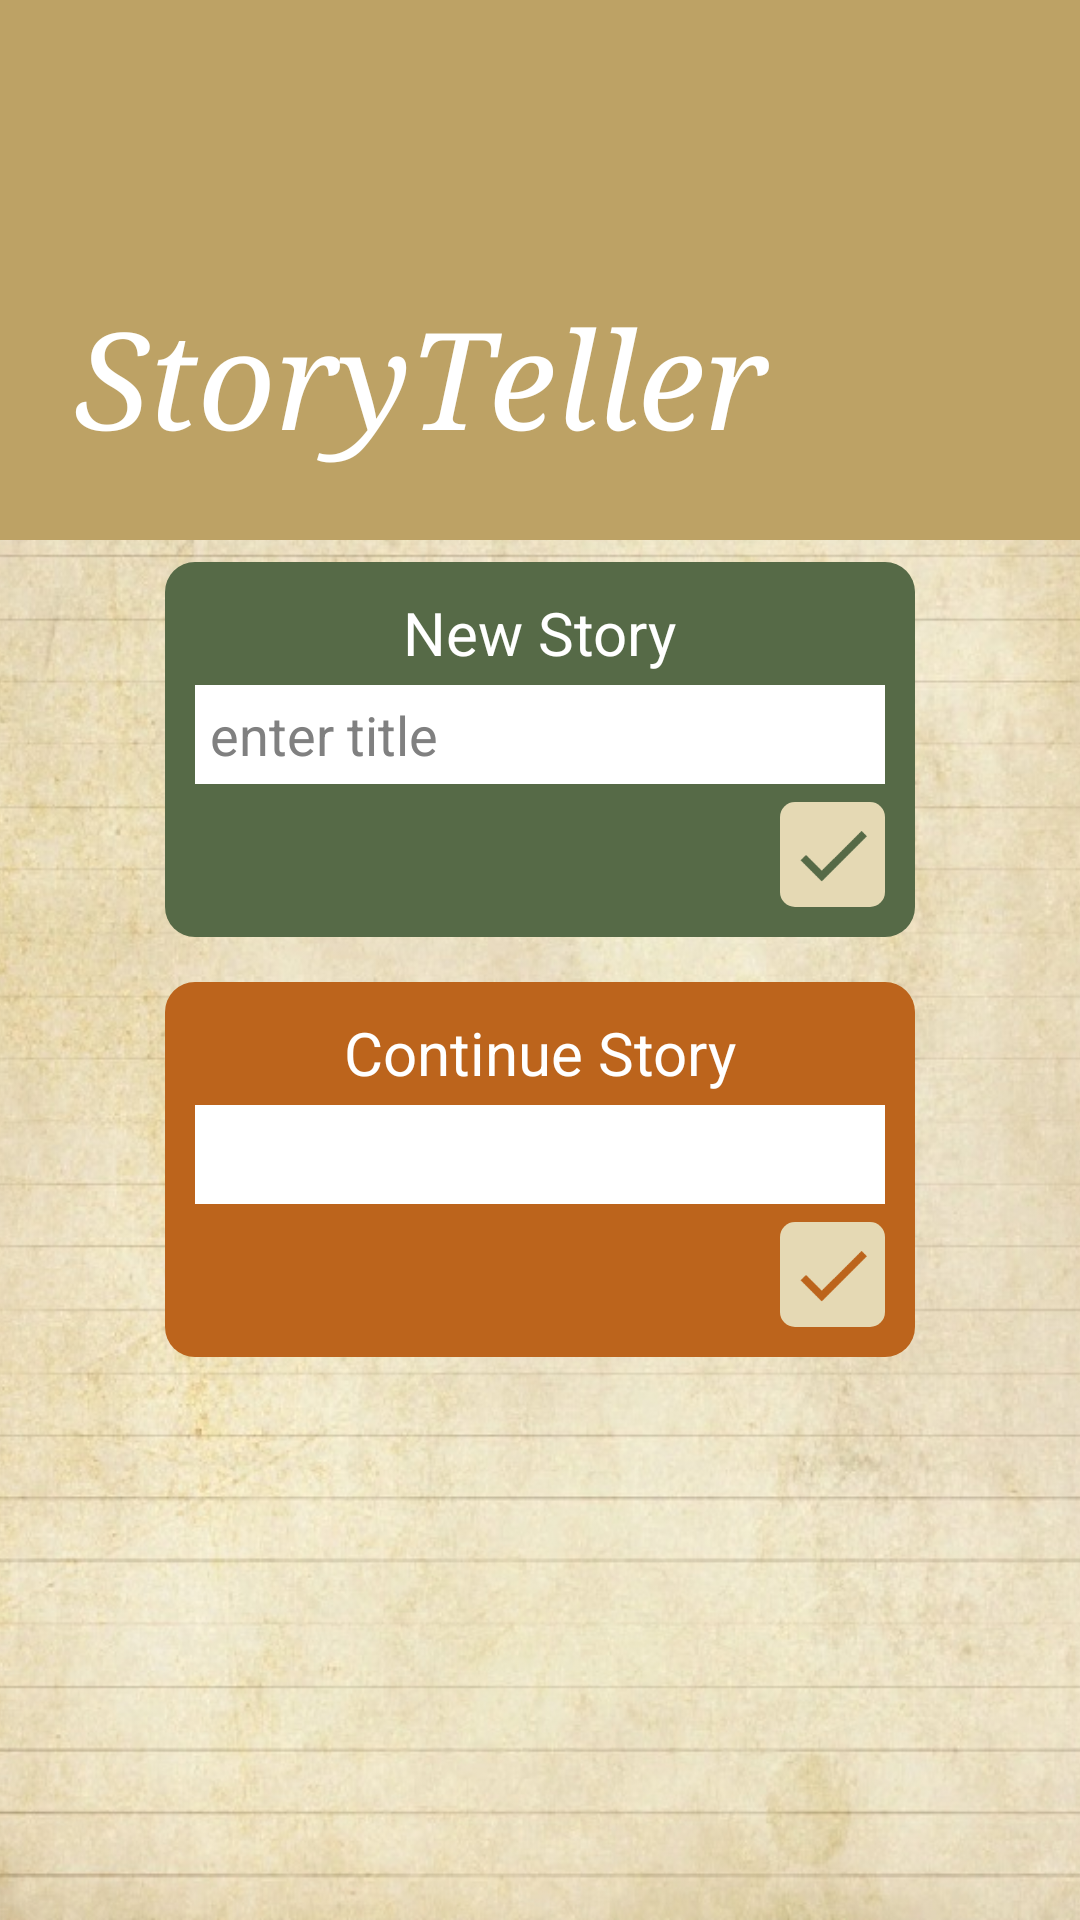

Named icons in this screenshot (1080×1920) and their bounding boxes, (x1,y1,x2,y2):
done: (780,802,885,907), (780,1222,885,1327)
